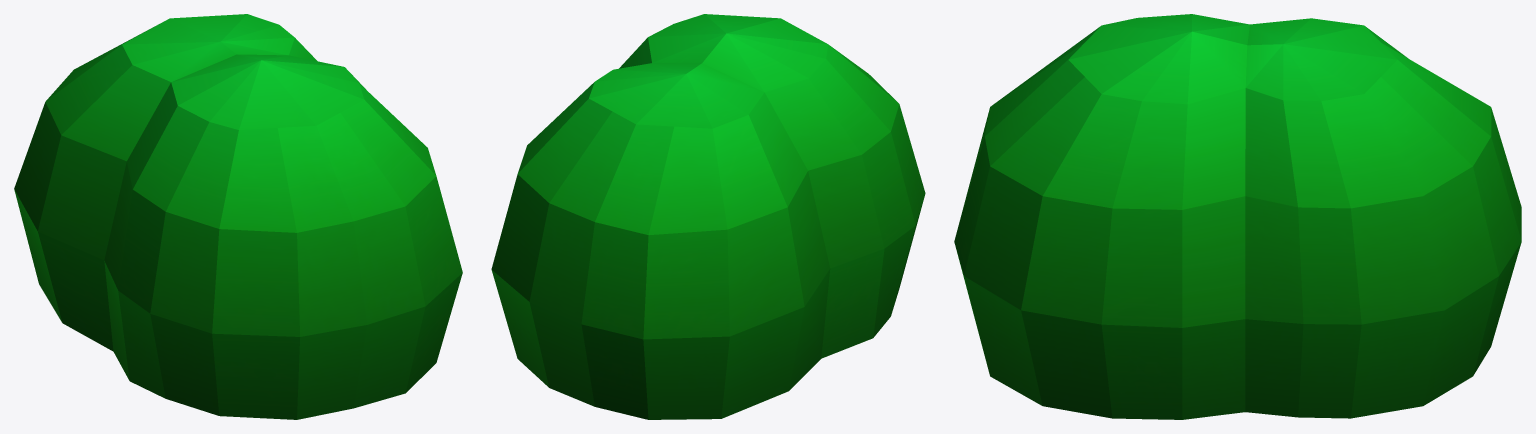
Rendered from Bush_2.fbx.
3 views of the same model, side by side, from view 1: azimuth 30°, elevation 25°; view 2: azimuth 150°, elevation 25°; view 3: azimuth 270°, elevation 25° (orthographic). The views are drawn at different scales.
Parts seen in each view (by area): view 1: Sphere.001; view 2: Sphere.001; view 3: Sphere.001.
Part boxes in pixels (left/top/right/bottom): Sphere.001: left=14, top=14, right=462, bottom=419; Sphere.001: left=491, top=14, right=925, bottom=419; Sphere.001: left=954, top=14, right=1521, bottom=419.
Bounding box in the file's own units: 1.13 × 1 × 1.6.
